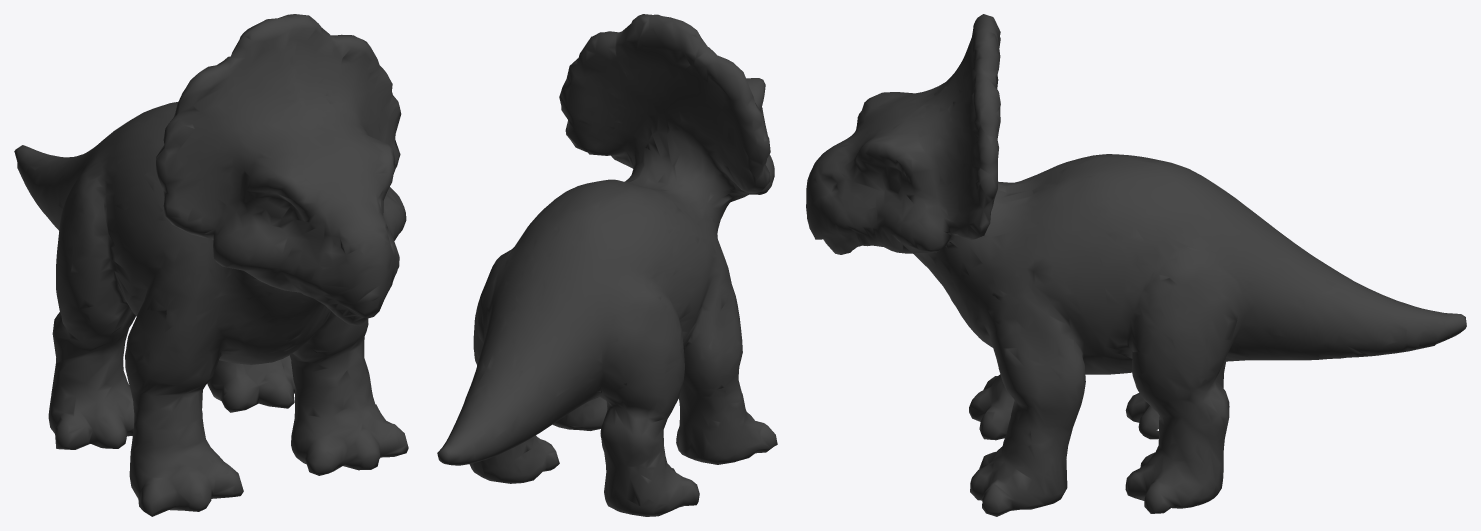
File: protoceratops.glb
The picture shows the model from 3 angles, left to right: view 1: azimuth 30°, elevation 25°; view 2: azimuth 150°, elevation 25°; view 3: azimuth 270°, elevation 25°; orthographic projection. The views are drawn at different scales.
Parts seen in each view (by area): view 1: geometry_0; view 2: geometry_0; view 3: geometry_0.
Part boxes in pixels (x1,y1,x2,y2): geometry_0: (14, 14, 408, 516); geometry_0: (437, 14, 777, 516); geometry_0: (806, 14, 1466, 516).
Size of the model in its own units: 0.4321 by 0.7298 by 1.
Materials: 1 (1 with a texture image).
